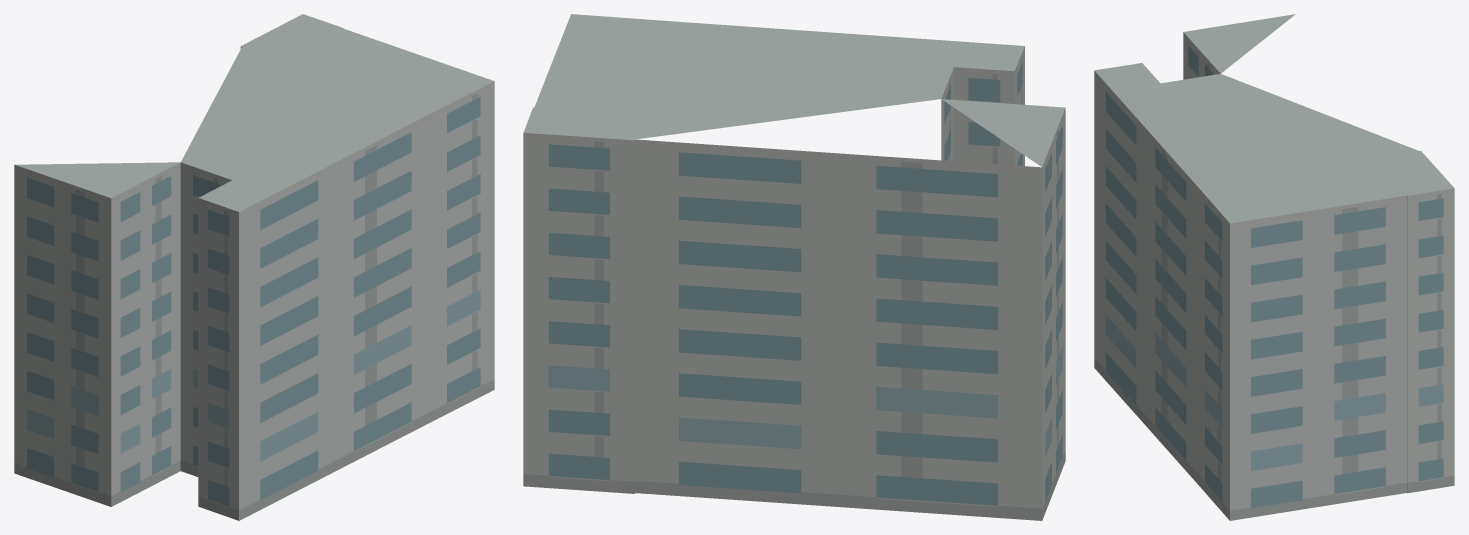
File: survey-upis-32848787.glb
3 renders of one model, left to right at view 1: azimuth 30°, elevation 25°; view 2: azimuth 150°, elevation 25°; view 3: azimuth 270°, elevation 25°, orthographic. The views are drawn at different scales.
Parts seen in each view (by area): view 1: survey-upis-32848787.tmp; view 2: survey-upis-32848787.tmp; view 3: survey-upis-32848787.tmp.
Boxes of the visible parts, x1=… form: survey-upis-32848787.tmp: x1=14, y1=14, x2=494, y2=520; survey-upis-32848787.tmp: x1=523, y1=14, x2=1065, y2=520; survey-upis-32848787.tmp: x1=1094, y1=14, x2=1454, y2=520.
Size of the model in its own units: 32.56 by 21.55 by 23.68.
